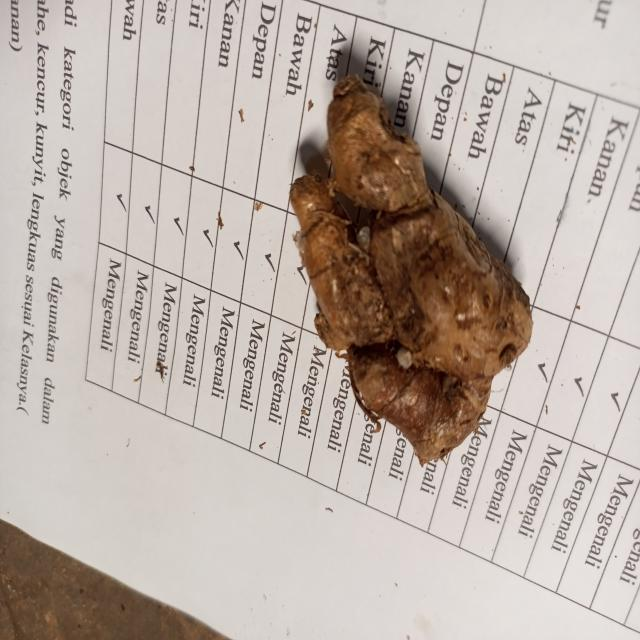ginger: (298, 85, 522, 451)
